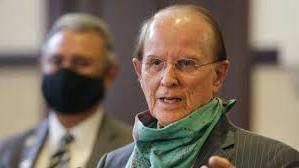mask_weared_incorrect: (137, 46, 208, 134)
with_mask: (38, 50, 103, 111)
